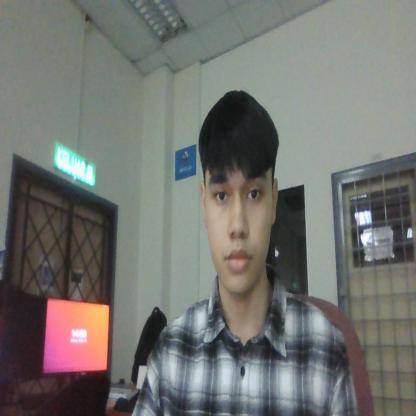Open-Eyes: (203, 169, 274, 215)
